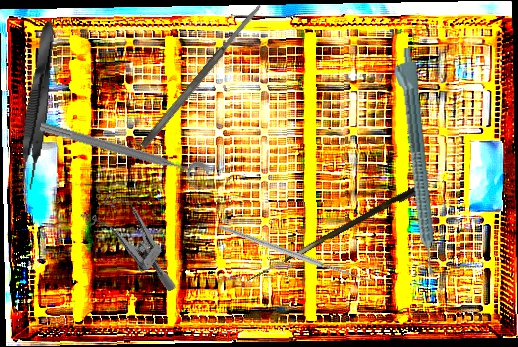Fixation Ring: (35, 116, 211, 193)
Handpiece: (389, 46, 440, 278)
Hook Surgical: (217, 168, 380, 336), (246, 181, 422, 290)
Spatula Surgical: (138, 2, 265, 150)
Speculum: (73, 183, 201, 293)
Tissue Forceps: (14, 19, 62, 192)
